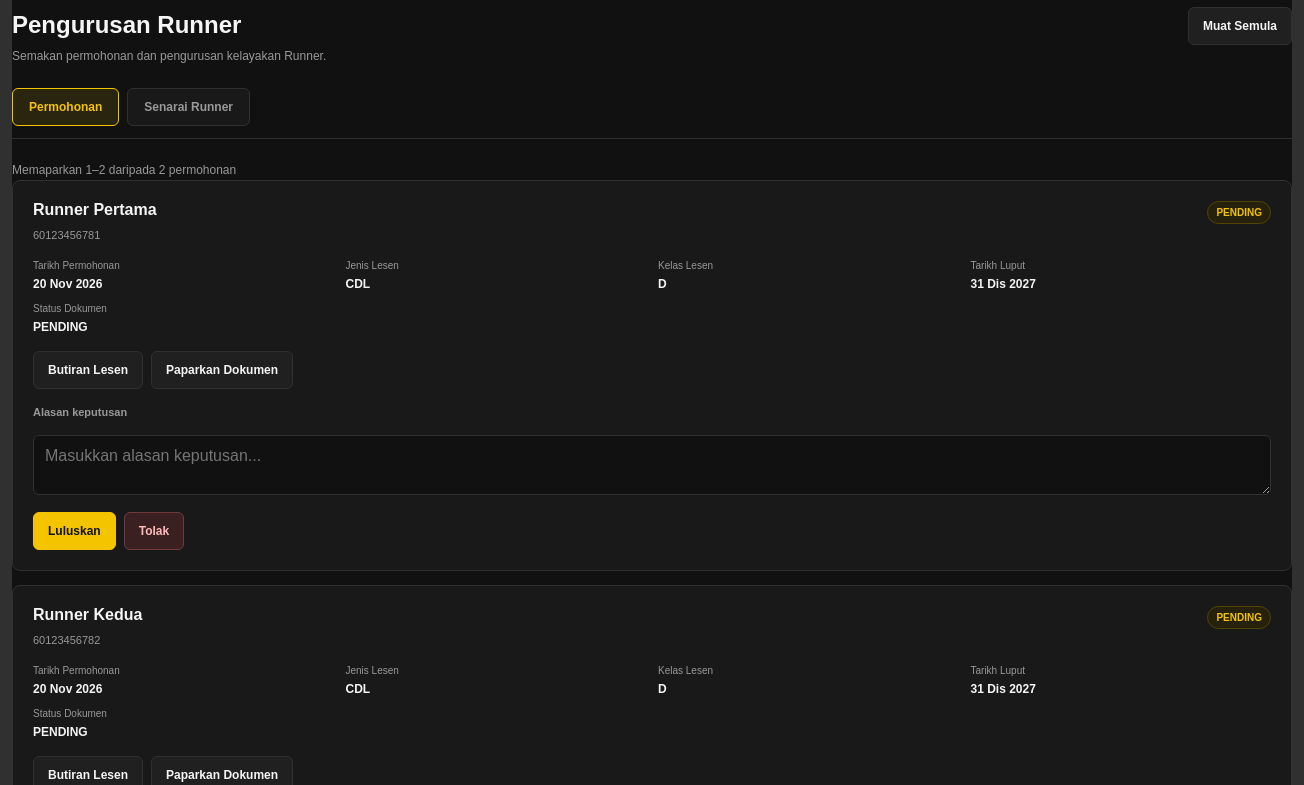
Test: RunnerApplicationsPage race conditions › mengunci butiran lesen lain semasa satu permintaan sedang berjalan
The width and height of the screenshot is (1304, 785).
Expected: the heading "Runner Pertama" is shown, [33, 201, 157, 219]
Expected: the heading "Runner Kedua" is shown, [33, 606, 142, 624]
Click the button "Butiran Lesen" below "60123456781".
click(88, 370)  # box [33, 351, 143, 389]
(page scrolled)
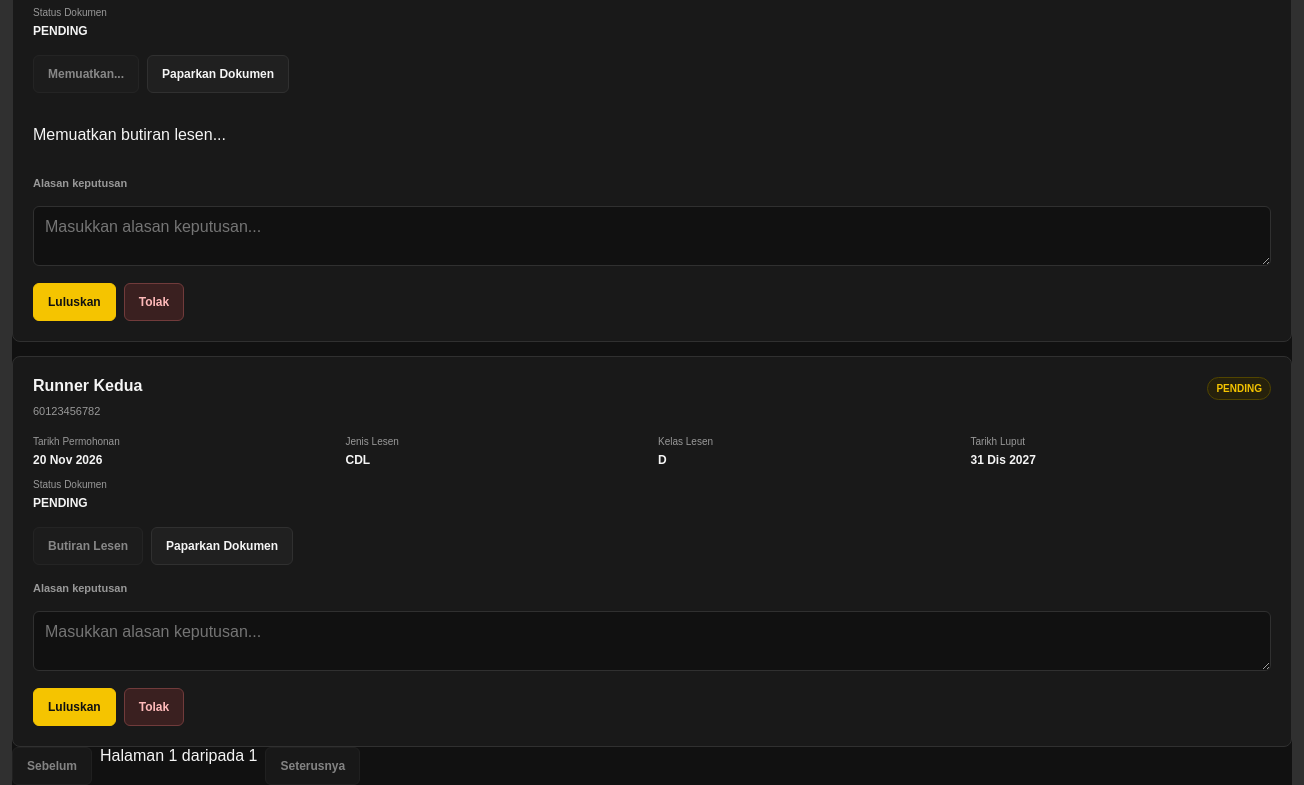
Result: the button named "Butiran Lesen" is disabled at [33, 55, 139, 93]
Result: the button "Butiran Lesen" is disabled
Click the button "Butiran Lesen".
click(88, 546)  # box [33, 527, 143, 565]
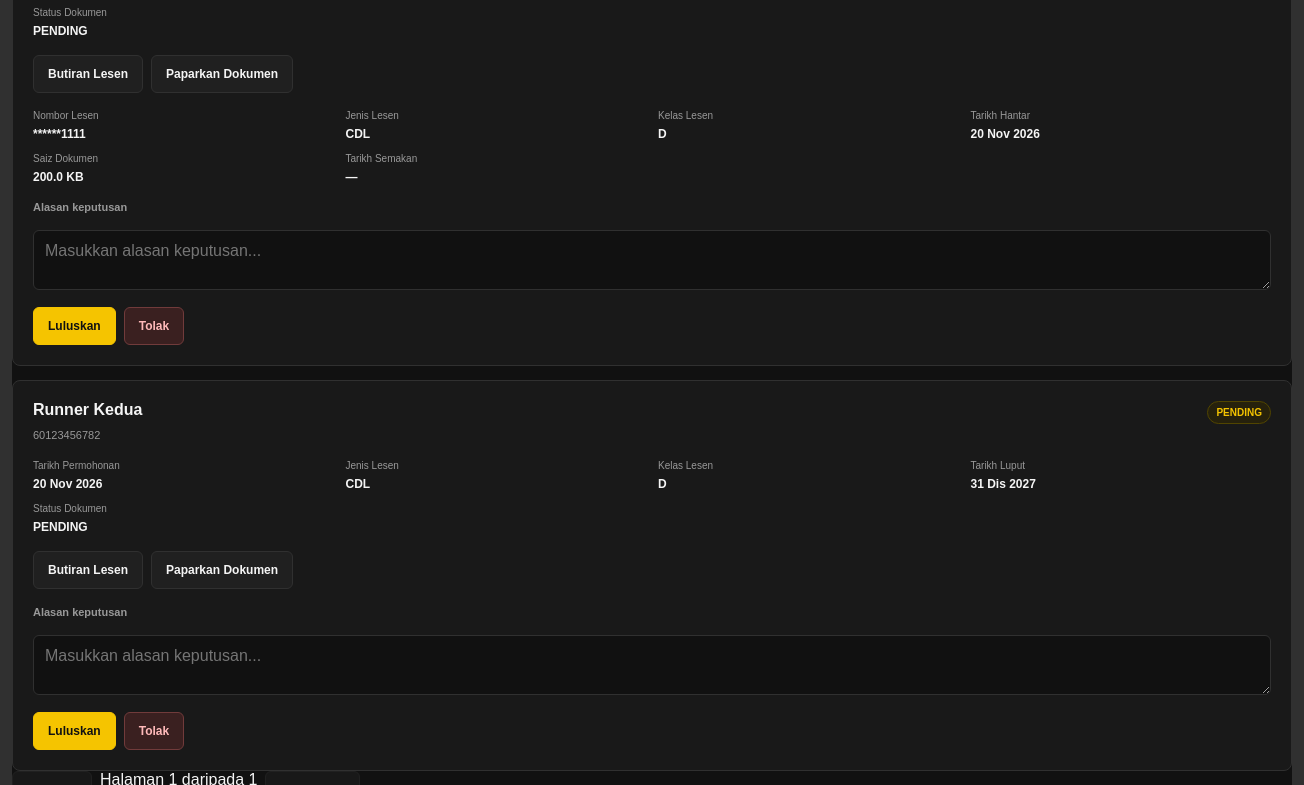
Result: the text "******1111" is shown at [33, 127, 86, 141]
